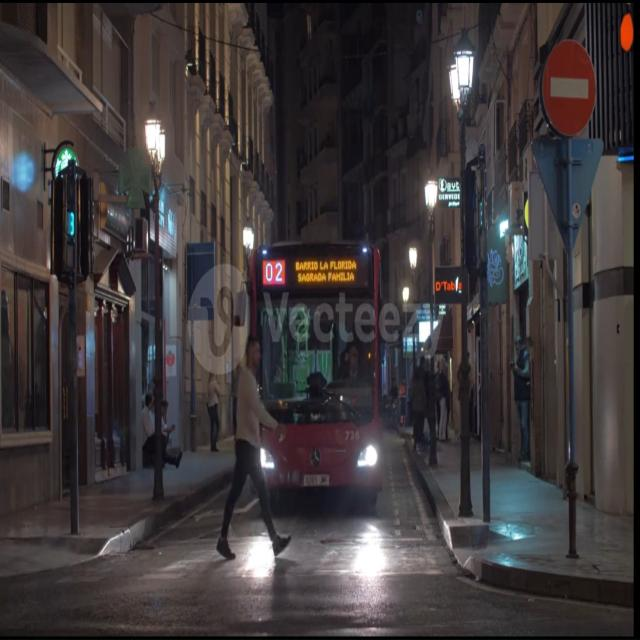pedestrian: (217, 336, 290, 559)
